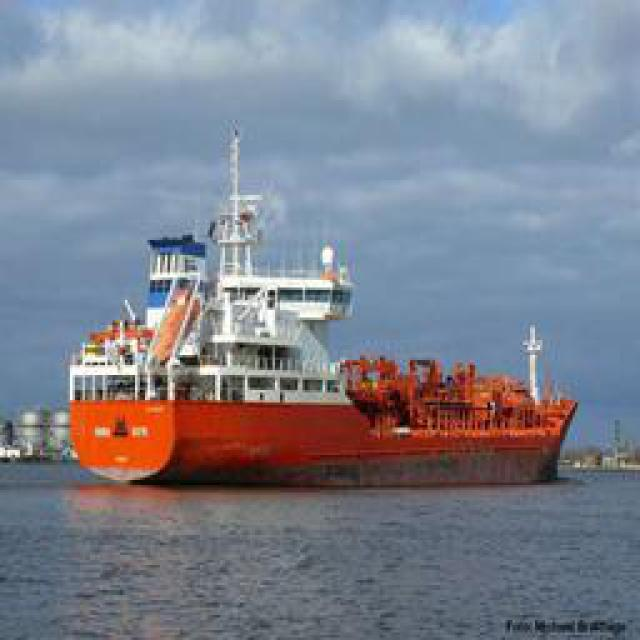Ship: (62, 123, 545, 481)
